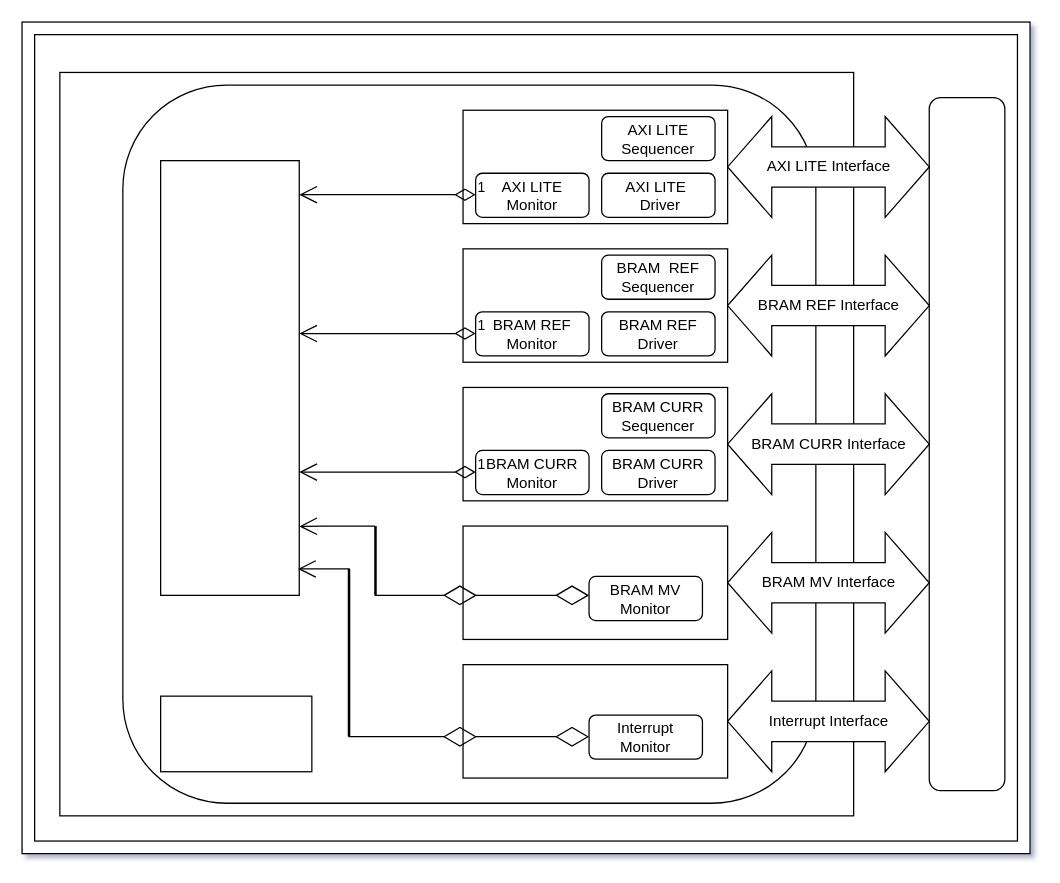
Some shapes in this 1060 by 883 pixel diagram are drawn without their labels. The shapes that lost their labels are listed below. From the top down, each one's box as (x1, y1, x2, y2) in pixels, then its label:
(159, 159, 299, 595): Scoreboard
(928, 96, 1005, 791): DUT
(159, 695, 312, 772): Configuration
